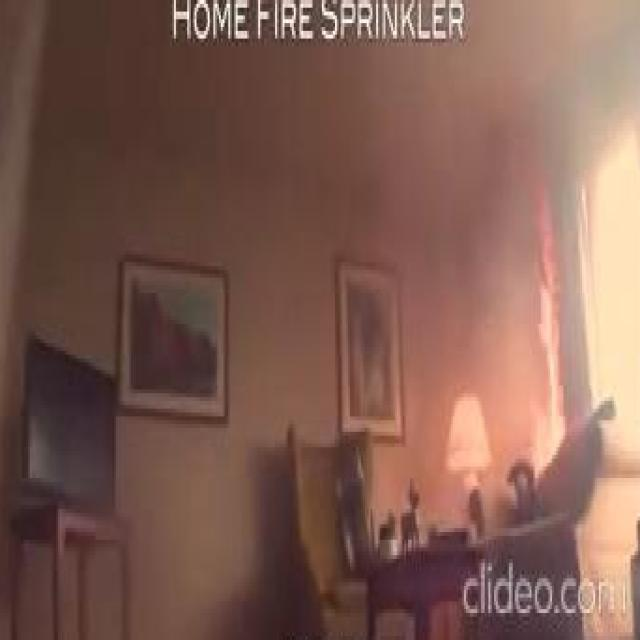smoke: (518, 138, 569, 478)
